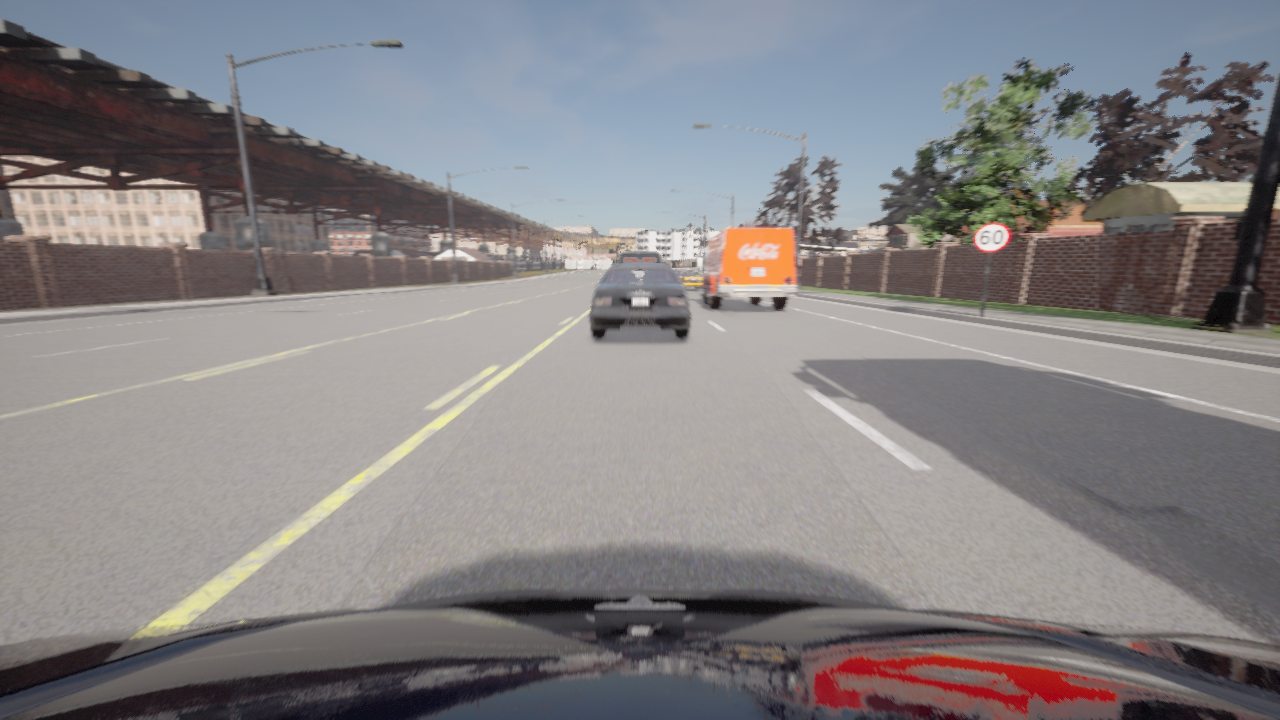cyclist: (0, 588, 1279, 719), (697, 228, 797, 309), (589, 264, 690, 338), (676, 268, 703, 290), (617, 252, 662, 263), (673, 271, 681, 274)
